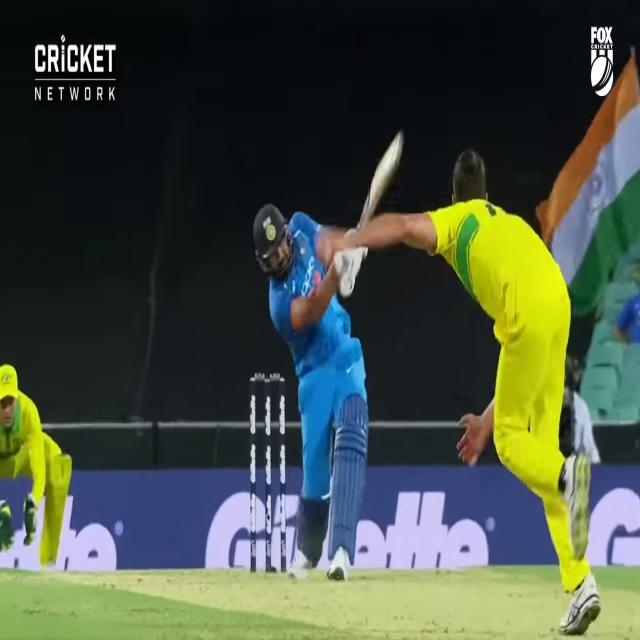stump: (251, 377, 285, 570)
